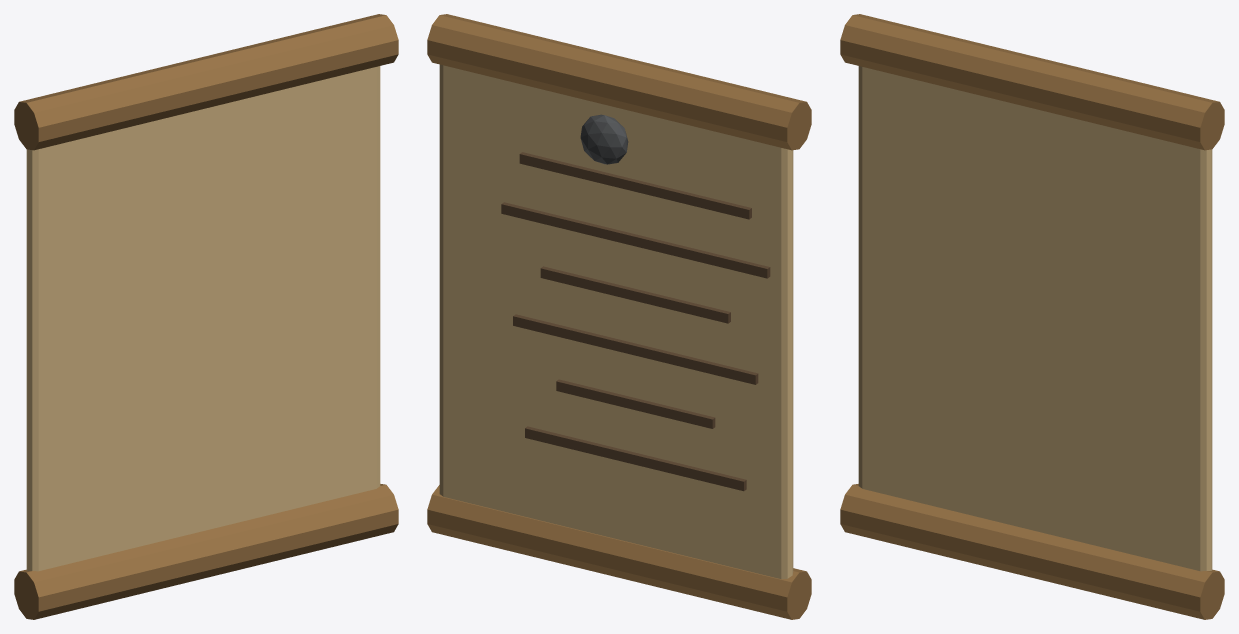
Rendered from old_parchment_3985.glb.
3 renders of one model, left to right at view 1: azimuth 30°, elevation 25°; view 2: azimuth 150°, elevation 25°; view 3: azimuth 330°, elevation 25°, orthographic.
Visible parts, largest first — view 1: Parchment sheet, Top curled edge, Bottom curled edge; view 2: Parchment sheet, Top curled edge, Bottom curled edge, Abstract ink line 1, Abstract ink line 3, Abstract ink line 0, Abstract ink line 5, Abstract ink line 2, Abstract ink line 4, Wall tack; view 3: Parchment sheet, Top curled edge, Bottom curled edge.
Part boxes in pixels (x1,y1,x2,y2): Parchment sheet: (26,66,380,571); Top curled edge: (14,14,398,150); Bottom curled edge: (14,484,398,619); Parchment sheet: (439,64,793,579); Top curled edge: (427,14,811,150); Bottom curled edge: (427,485,811,619); Abstract ink line 1: (501,202,770,278); Abstract ink line 3: (513,314,758,384); Abstract ink line 0: (519,152,751,219); Abstract ink line 5: (525,426,746,491); Abstract ink line 2: (540,266,730,323); Abstract ink line 4: (556,379,715,428); Wall tack: (580,114,628,164); Parchment sheet: (858,66,1212,571); Top curled edge: (840,14,1224,150); Bottom curled edge: (840,484,1224,619).
Bounding box in the file's own units: 1.38 × 1.89 × 0.2308.
